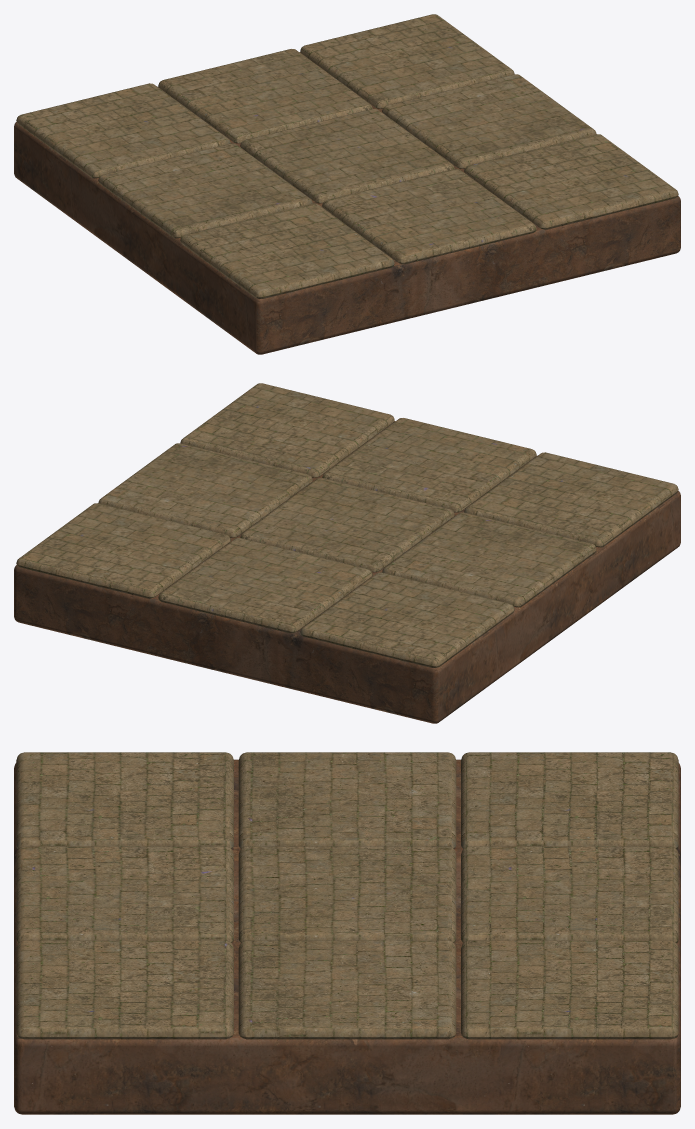
File: paving_tile.glb
The picture shows the model from 3 angles, top to bottom: view 1: azimuth 30°, elevation 25°; view 2: azimuth 150°, elevation 25°; view 3: azimuth 270°, elevation 25°; orthographic projection. The views are drawn at different scales.
Parts seen in each view (by area): view 1: Foundation; view 2: Foundation; view 3: Foundation.
Part boxes in pixels (x1,y1,x2,y2): Foundation: (14, 14, 680, 354); Foundation: (14, 383, 680, 723); Foundation: (14, 752, 680, 1114).
Size of the model in its own units: 2 by 0.288 by 2.
2 materials, 2 textured.
